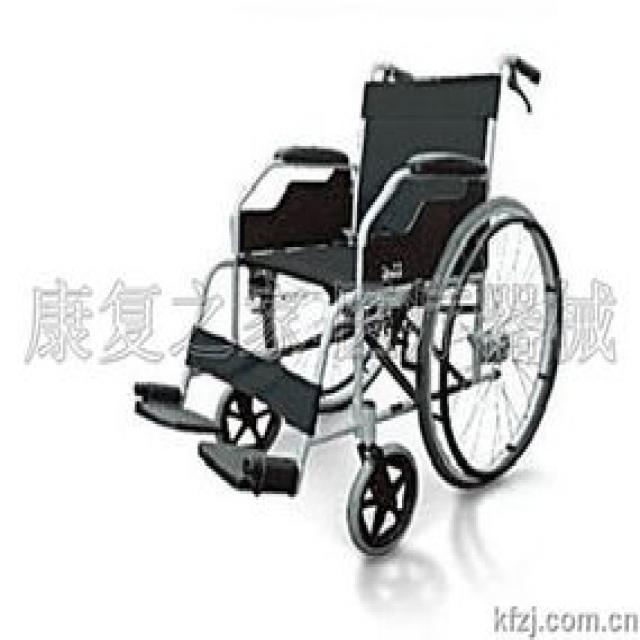wheelchair: (121, 50, 557, 522)
